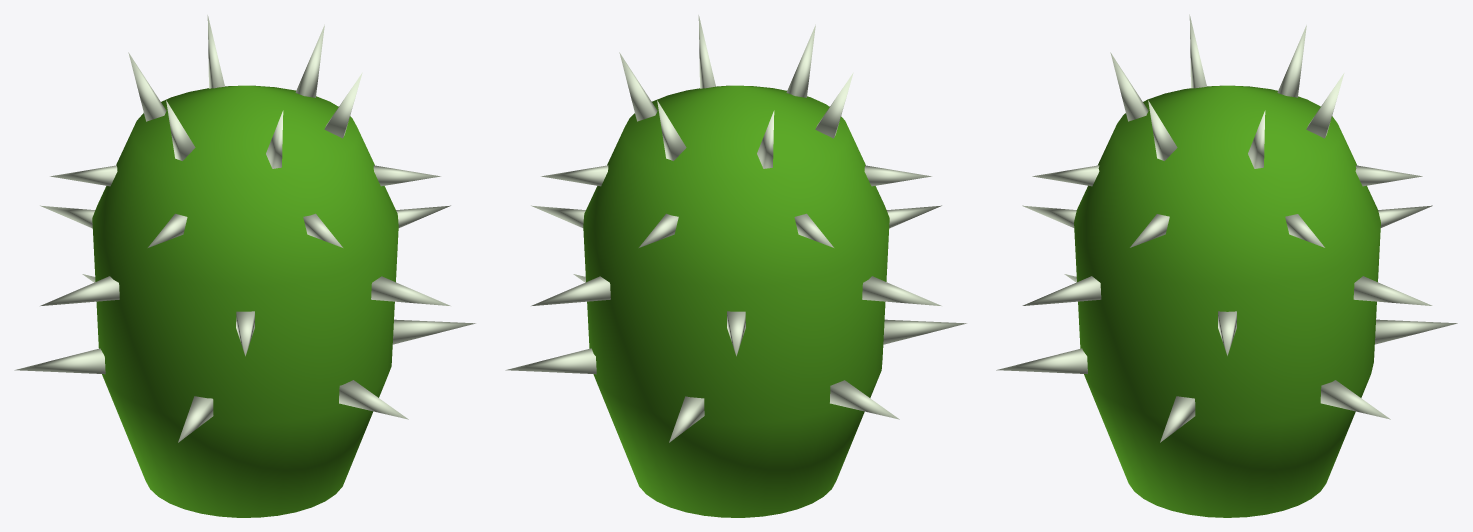
Rendered from cactus.glb.
3 views of the same model, side by side, from view 1: azimuth 30°, elevation 25°; view 2: azimuth 150°, elevation 25°; view 3: azimuth 270°, elevation 25° (orthographic).
Visible parts, largest first — view 1: Cylinder; view 2: Cylinder; view 3: Cylinder.
Part boxes in pixels (x1,y1,x2,y2): Cylinder: (14, 15, 475, 517); Cylinder: (505, 15, 966, 517); Cylinder: (996, 14, 1457, 517).
Size of the model in its own units: 2.01 by 1.93 by 1.95.
1 material, 1 textured.
